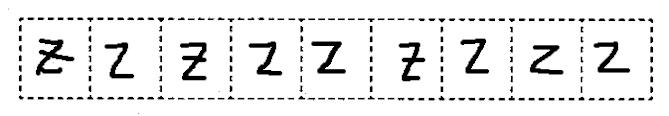Z: (304, 37, 350, 82), (456, 32, 498, 80), (32, 32, 75, 78), (170, 36, 211, 84), (101, 34, 139, 85), (590, 38, 637, 79), (391, 37, 428, 88), (524, 41, 570, 80), (245, 38, 286, 80)
